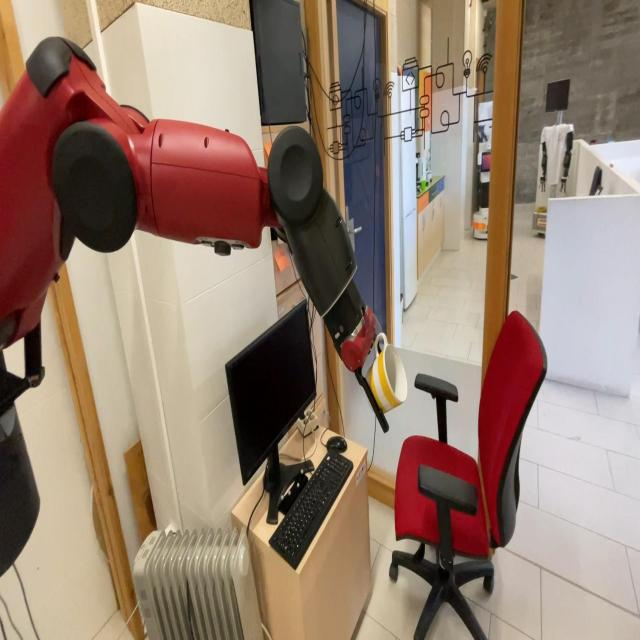cup: (362, 332, 408, 412)
